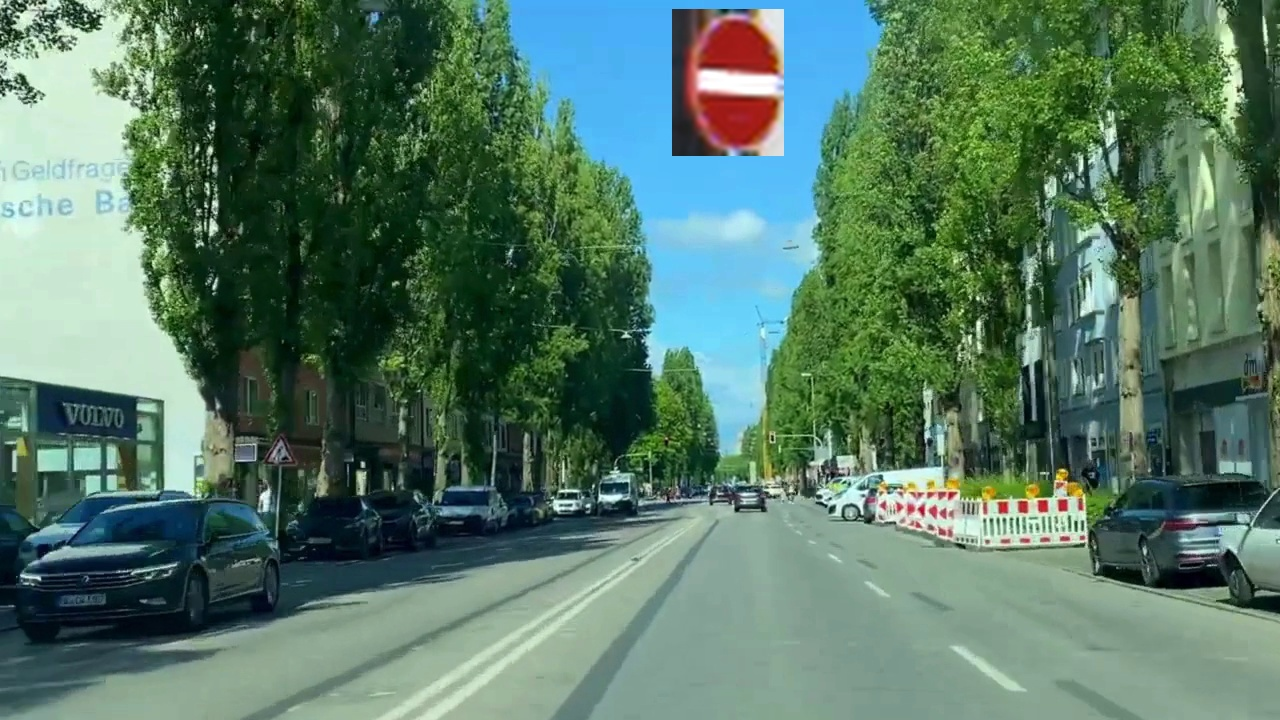No entry: (672, 9, 784, 156)
